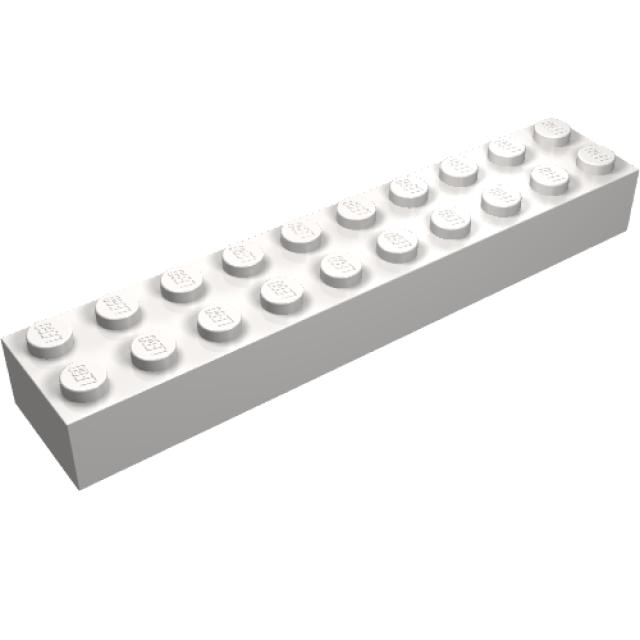White_Large: (0, 116, 640, 493)
